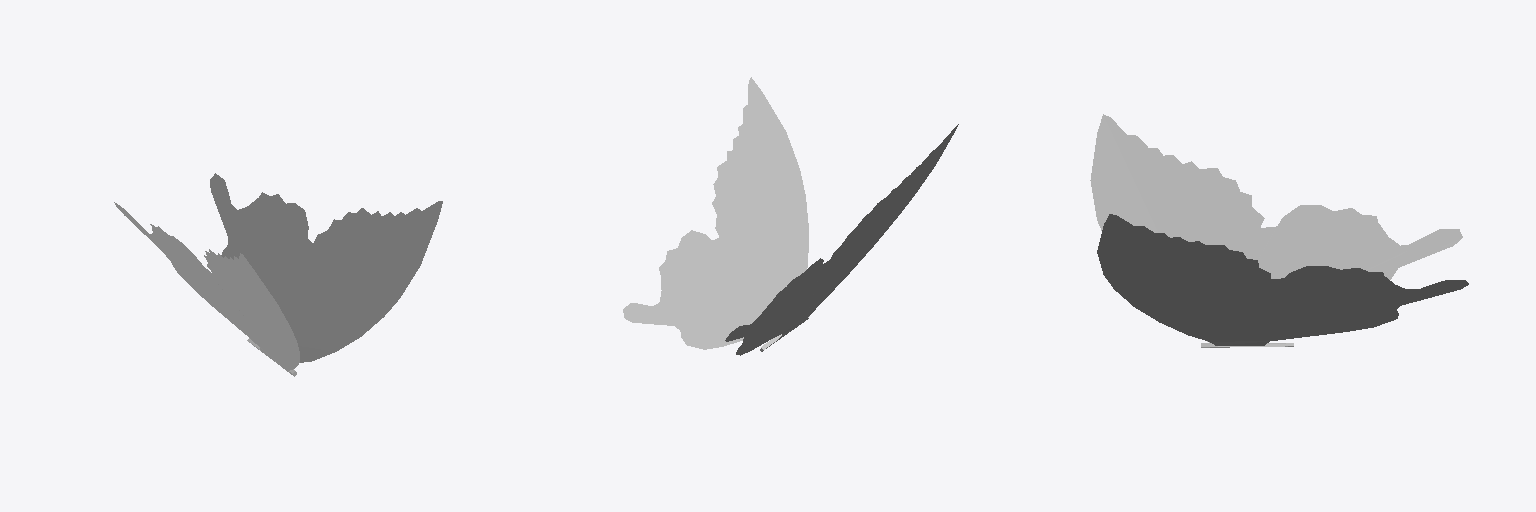
The model's file is mob_30.obj.
3 views of the same model, side by side, from view 1: azimuth 30°, elevation 25°; view 2: azimuth 150°, elevation 25°; view 3: azimuth 270°, elevation 25° (orthographic).
Parts seen in each view (by area): view 1: Cube; view 2: Cube; view 3: Cube.
Part boxes in pixels (left/top/right/bottom): Cube: left=114, top=173, right=442, bottom=376; Cube: left=623, top=77, right=958, bottom=355; Cube: left=1090, top=114, right=1468, bottom=347.
Size of the model in its own units: 1.22 by 1.05 by 1.96.